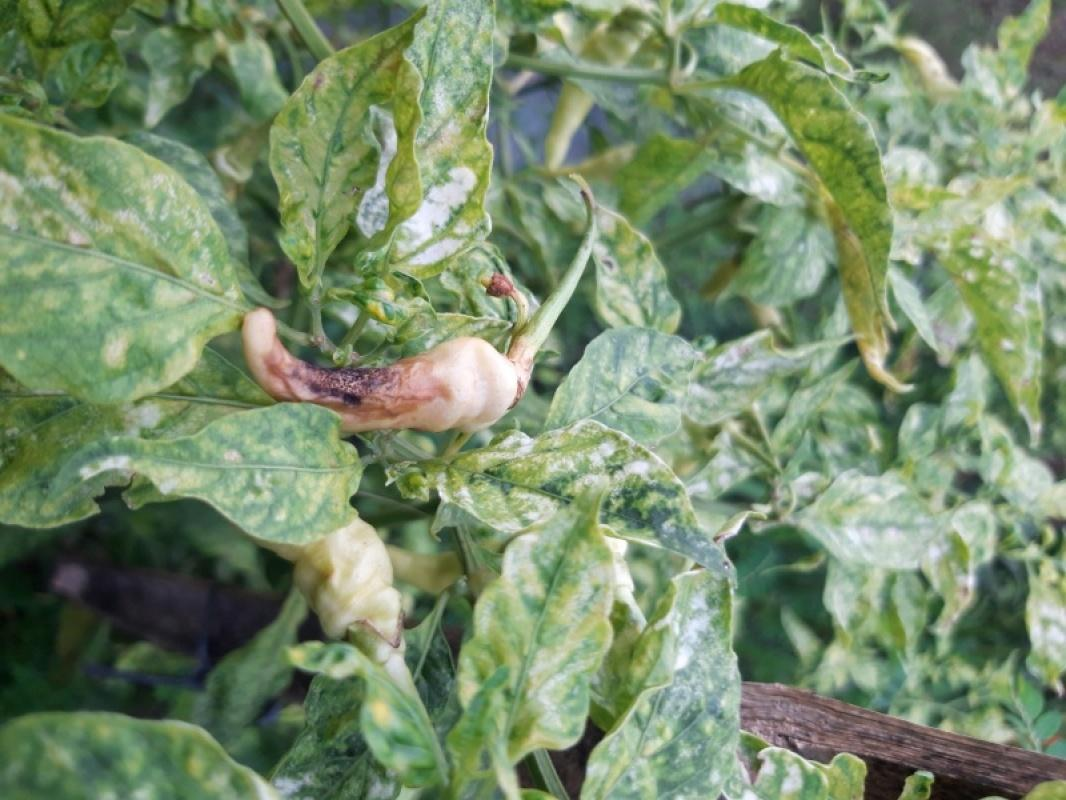antraknosa: (242, 307, 521, 433)
